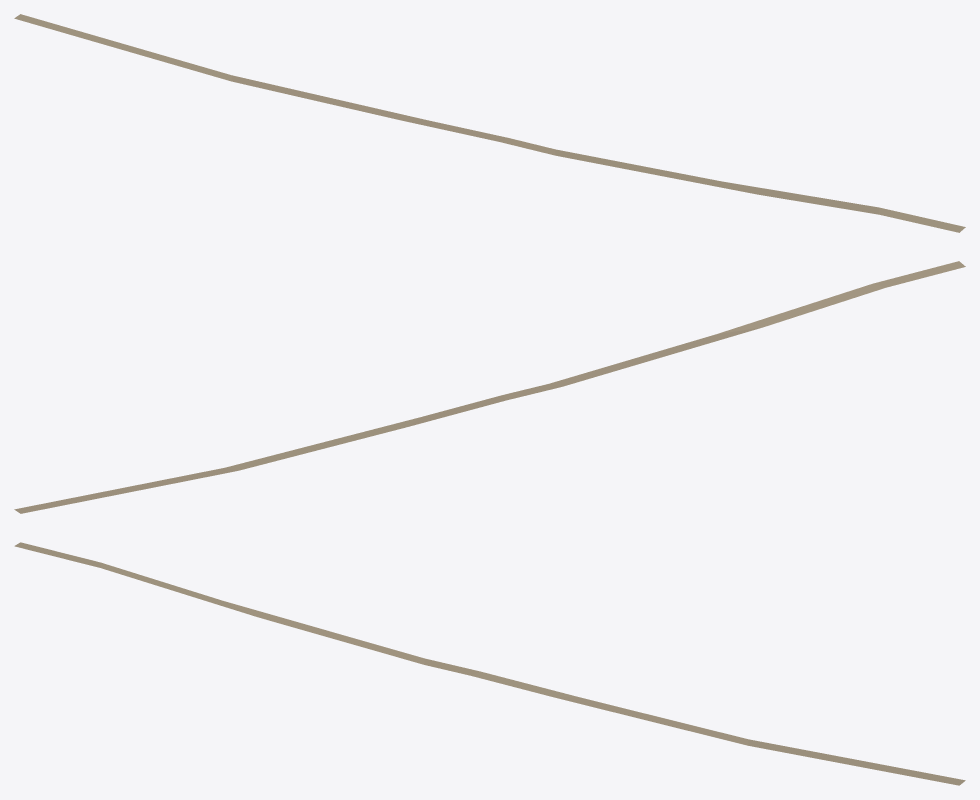
The model's file is farm_1_-4_track.glb.
3 renders of one model, top to bottom at view 1: azimuth 90°, elevation 25°; view 2: azimuth 150°, elevation 25°; view 3: azimuth 270°, elevation 25°, orthographic.
Parts seen in each view (by area): view 1: geometry_0; view 2: geometry_0; view 3: geometry_0.
Part boxes in pixels (box(x1,y1,x2,y2)): geometry_0: box(14, 14, 965, 232); geometry_0: box(14, 261, 965, 513); geometry_0: box(14, 542, 965, 785).
Size of the model in its own units: 135 by 6.49 by 235.
